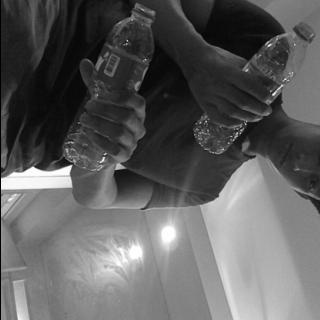plastic_bottles: (61, 0, 158, 170), (190, 24, 313, 158)
